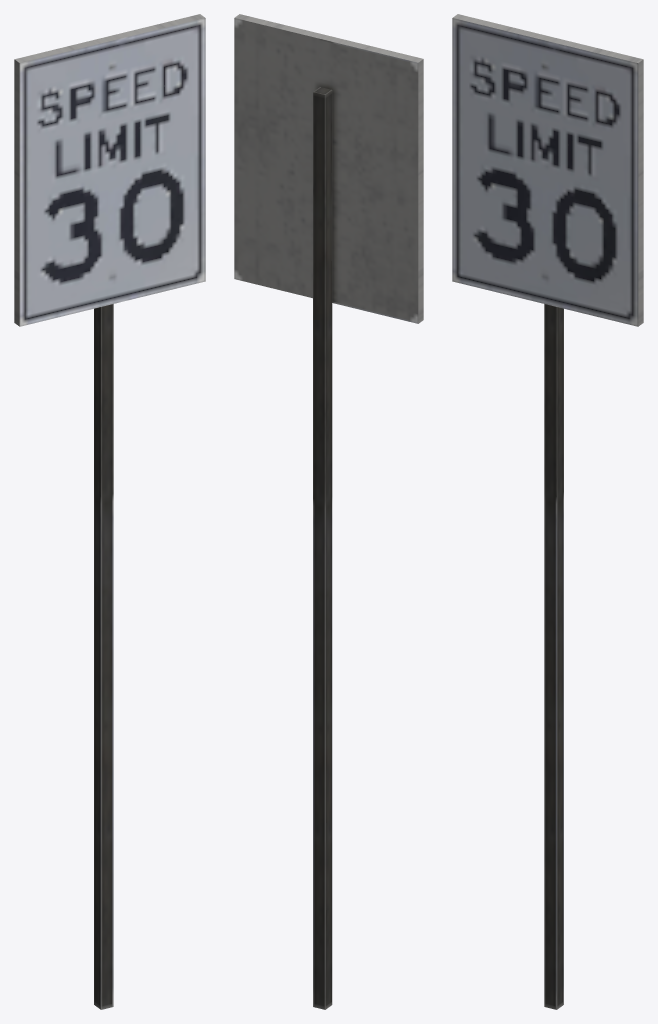
The model's file is Sign01.obj.
3 renders of one model, left to right at view 1: azimuth 30°, elevation 25°; view 2: azimuth 150°, elevation 25°; view 3: azimuth 330°, elevation 25°, orthographic.
Visible parts, largest first — view 1: Sign01; view 2: Sign01; view 3: Sign01.
Boxes of the visible parts, x1,y1,x2,y2 form: Sign01: [14, 14, 205, 1009]; Sign01: [234, 14, 423, 1009]; Sign01: [452, 14, 643, 1009].
Bounding box in the file's own units: 0.6 × 3 × 0.07.
